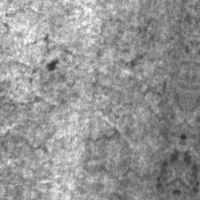crazing: (80, 123, 162, 184), (0, 88, 58, 153)
